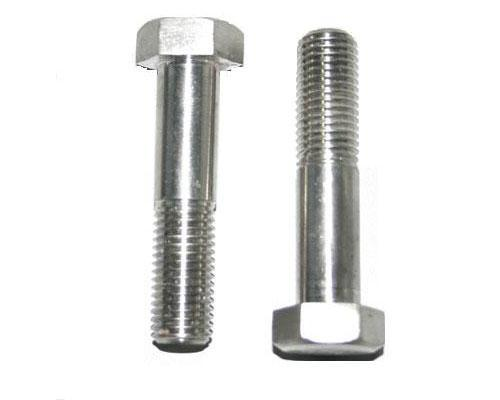screw: (273, 28, 385, 362), (136, 18, 245, 353)
